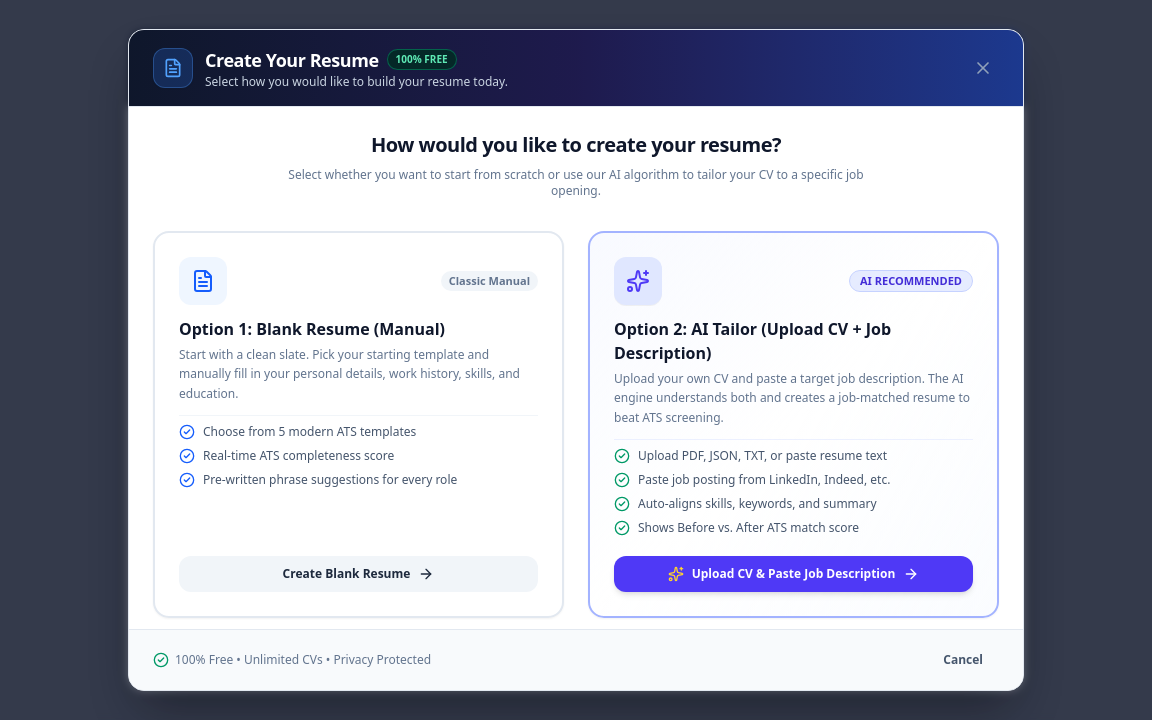
Test: CreateResumeModal Component (2 Creation Options) › navigates to Option 1 (Blank Resume) and submits with custom title and template
The width and height of the screenshot is (1152, 720).
Later steps or results of the test are not shown.
Click the button "Create Blank Resume".
click(358, 574)  # box [179,556,538,592]
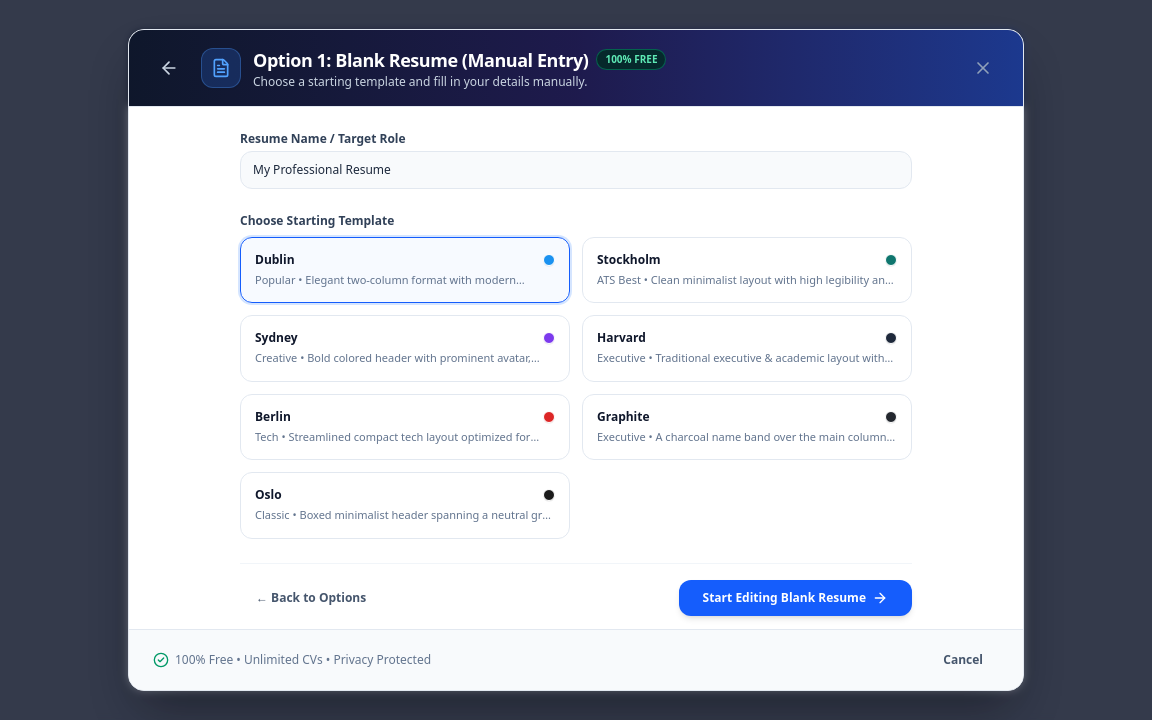
expect the text "Option 1: Blank Resume (Manual Entry)" is shown: met, box [253,46,588,74]
expect the text "Choose Starting Template" is shown: met, box [240,212,394,229]
Replace the text in the field with "Product Manager Resume" at (576, 170), box [240,151,912,189]
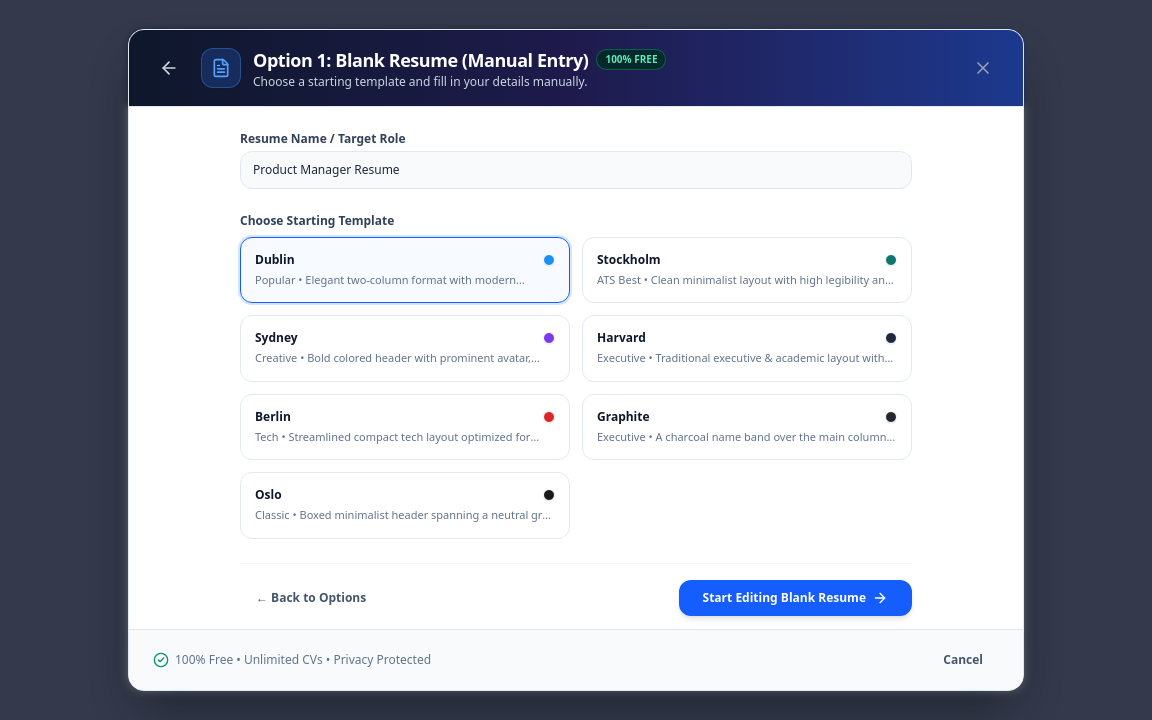
expect the button "Start Editing Blank Resume" is shown: met, box [678,580,912,616]
